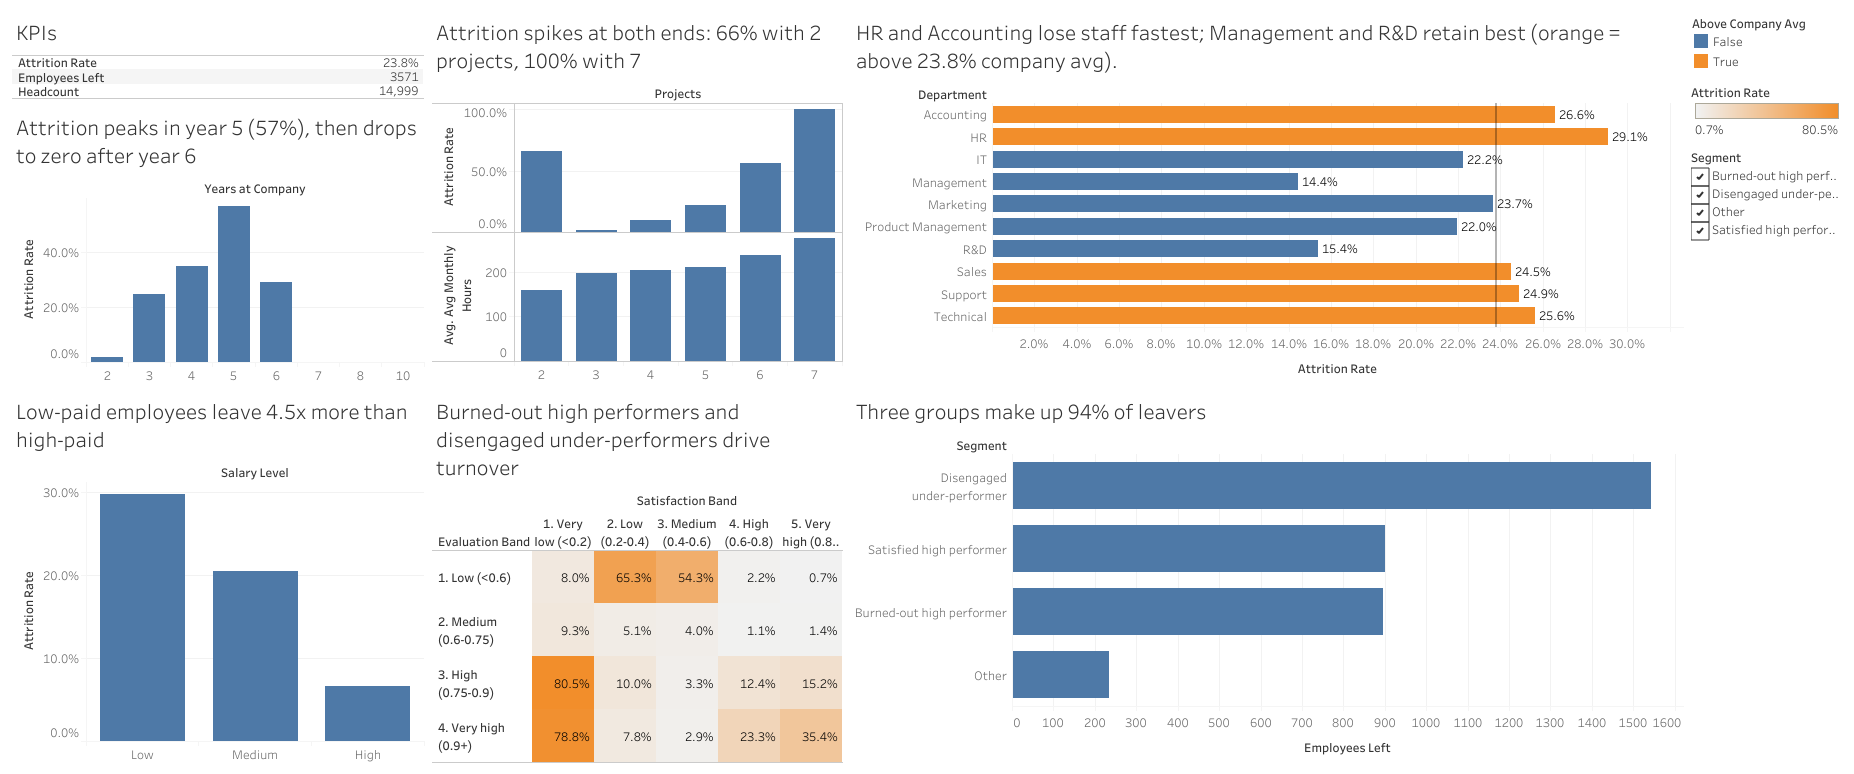

The dashboard page shown, as its layout file describes it:
{"tool":"tableau","page":{"name":"Dashboard 1","canvas":[1000,1000],"units":"permille","ordinal":0},"visuals":[{"type":"worksheet","title":"KPIs","mark":"Automatic","box":[4.7,8.9,224.2,122.8]},{"type":"worksheet","title":"Attrition spikes at both ends: 66% with 2 projects, 100% with 7","mark":"Automatic","rows":["Calculation_1631185600372741","Avg Monthly Hours"],"cols":["Projects"],"box":[228.9,8.9,224.3,491.1]},{"type":"worksheet","title":"HR and Accounting lose staff fastest; Management and R&D retain best","mark":"Automatic","rows":["Department"],"cols":["Calculation_1631185600372741"],"box":[453.2,8.9,448.5,491.1]},{"type":"legend","title":"HR and Accounting lose staff fastest; Management and R&D retain best","param":"[federated.0np4whi0vdh6w519v97np141y21t].[usr:Calculation_1631185600442374:nk]","box":[901.7,8.9,93.6,73.7]},{"type":"legend","title":"Burned-out high performers and disengaged under-performers drive turnover","param":"[federated.0np4whi0vdh6w519v97np141y21t].[usr:Calculation_1631185600372741:qk]","box":[901.7,82.6,93.6,72.5]},{"type":"worksheet","title":"Attrition peaks in year 5 (57%), then drops to zero after year 6","mark":"Automatic","rows":["Calculation_1631185600372741"],"cols":["Years at Company"],"box":[4.7,131.7,224.2,368.3]},{"type":"filter","title":"Three groups make up 94% of leavers","param":"[federated.0np4whi0vdh6w519v97np141y21t].[none:Segment:nk]","box":[901.7,155.1,93.6,141.7]},{"type":"worksheet","title":"Low-paid employees leave 4.5x more than high-paid","mark":"Automatic","rows":["Calculation_1631185600372741"],"cols":["Salary Level"],"box":[4.7,500,224.2,491.1]},{"type":"worksheet","title":"Burned-out high performers and disengaged under-performers drive turnover","mark":"Square","rows":["Evaluation Band"],"cols":["Satisfaction Band"],"box":[228.9,500,224.3,491.1]},{"type":"worksheet","title":"Three groups make up 94% of leavers","mark":"Automatic","rows":["Segment"],"cols":["Calculation_1631185600274435"],"box":[453.2,500,448.5,491.1]}]}

Visuals, with their boxes on the dashboard's canvas, which has no fixed pixel size, in thousandths of its width and height (x1, y1, x2, y2). These are canvas units, not pixel positions in the 1854x774 screenshot, which may show the page scaled, cropped or inside an application window:
"KPIs" worksheet: x1=5 y1=9 x2=229 y2=132
"Attrition spikes at both ends: 66% with 2 projects, 100% with 7" worksheet: x1=229 y1=9 x2=453 y2=500
"HR and Accounting lose staff fastest; Management and R&D retain best" worksheet: x1=453 y1=9 x2=902 y2=500
"HR and Accounting lose staff fastest; Management and R&D retain best" legend: x1=902 y1=9 x2=995 y2=83
"Burned-out high performers and disengaged under-performers drive turnover" legend: x1=902 y1=83 x2=995 y2=155
"Attrition peaks in year 5 (57%), then drops to zero after year 6" worksheet: x1=5 y1=132 x2=229 y2=500
"Three groups make up 94% of leavers" filter: x1=902 y1=155 x2=995 y2=297
"Low-paid employees leave 4.5x more than high-paid" worksheet: x1=5 y1=500 x2=229 y2=991
"Burned-out high performers and disengaged under-performers drive turnover" worksheet (Square marks): x1=229 y1=500 x2=453 y2=991
"Three groups make up 94% of leavers" worksheet: x1=453 y1=500 x2=902 y2=991
